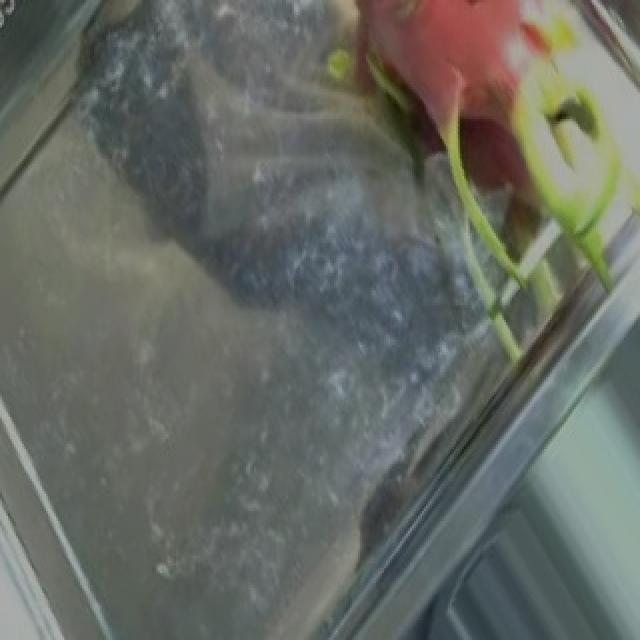fruit: (238, 0, 640, 357)
